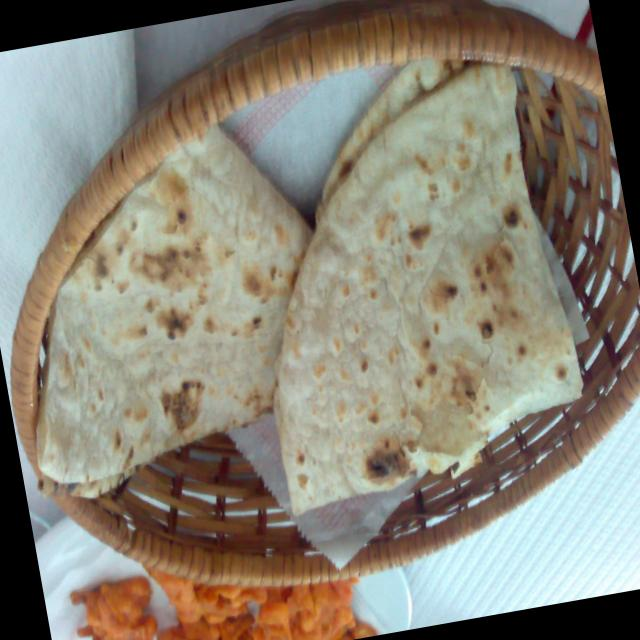roti: (32, 55, 587, 518)
